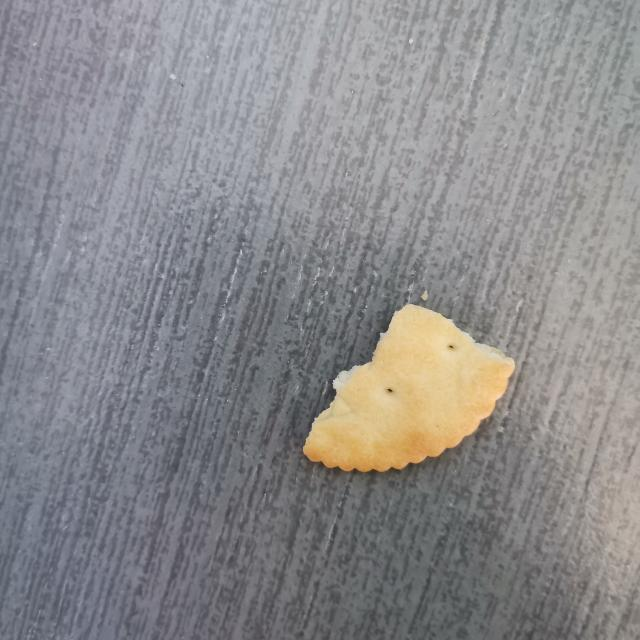Broken: (301, 302, 515, 474)
